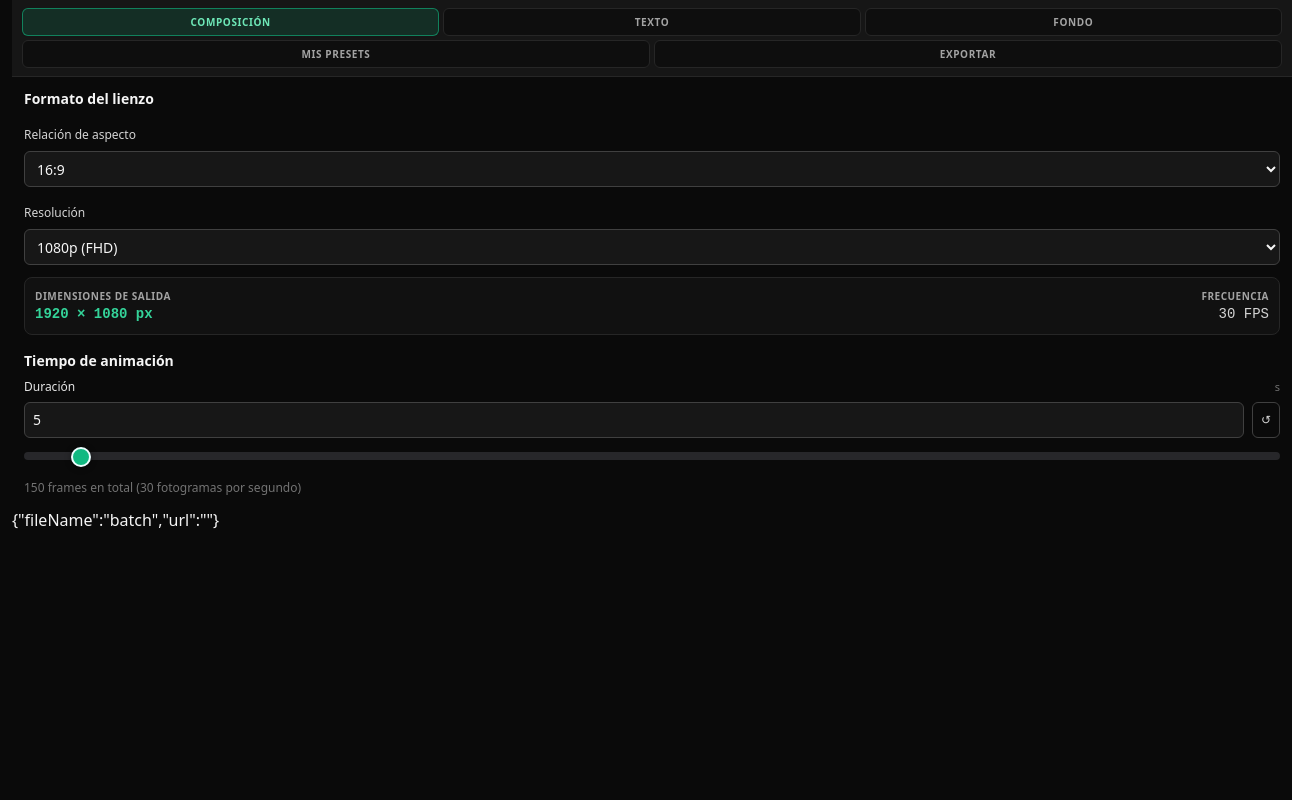
Test: InspectorPanel tabs › preserva written y el nombre real al guardar desde la UI un resultado previo
Click the tab "Exportar": [968, 54] box x1=654 y1=40 x2=1282 y2=68
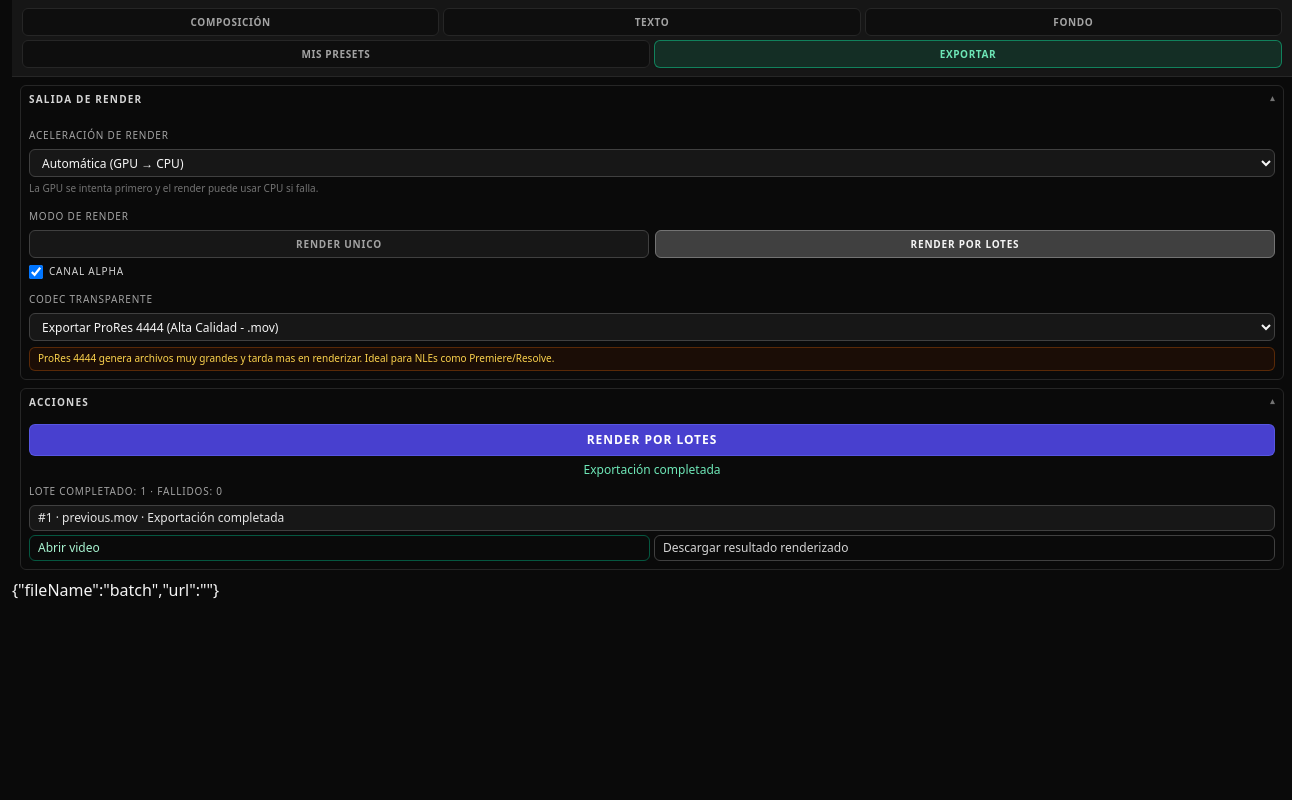
Click the button "Descargar resultado renderizado": [756, 547] box x1=654 y1=535 x2=1275 y2=561
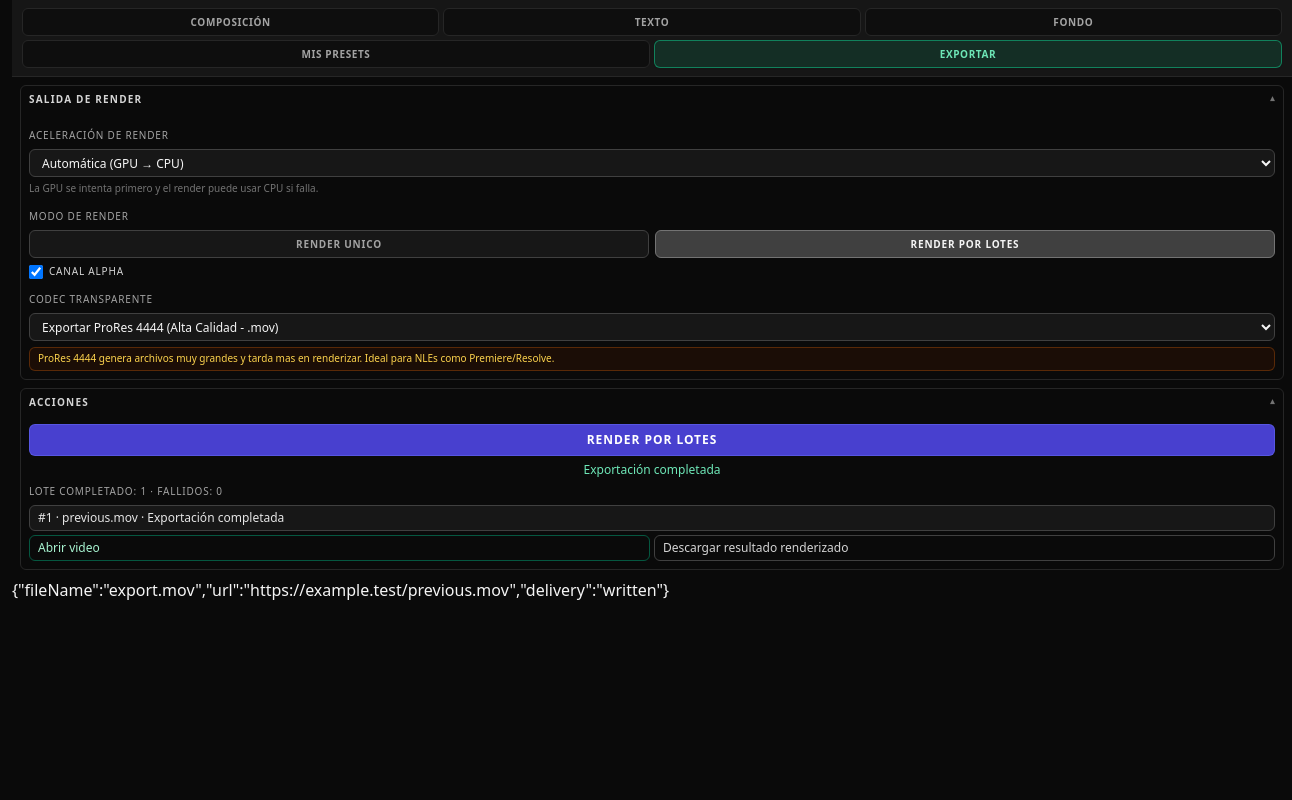
Now the text "Exportación completada" is shown, box x1=584 y1=461 x2=720 y2=478
Now the text with test id "saved-result" shows "\"delivery\":\"written\"", box x1=12 y1=579 x2=669 y2=601
Now the text with test id "saved-result" shows "\"fileName\":\"export.mov\"", box x1=12 y1=579 x2=669 y2=601
